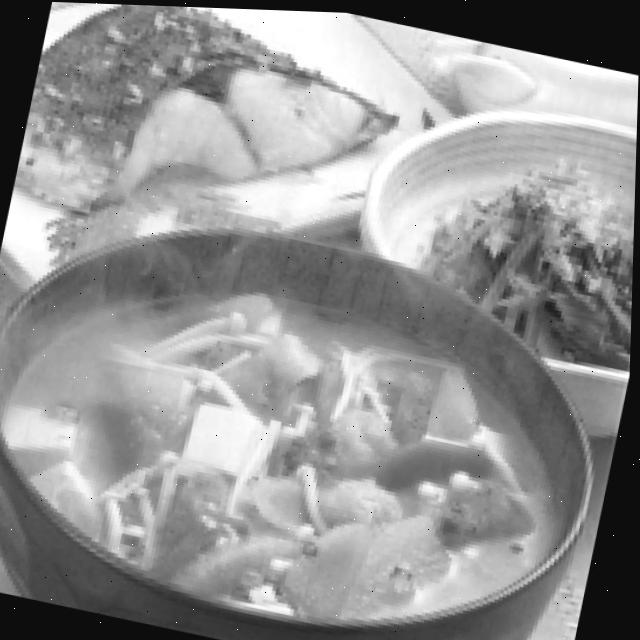蔬菜料理: (0, 175, 626, 640)
